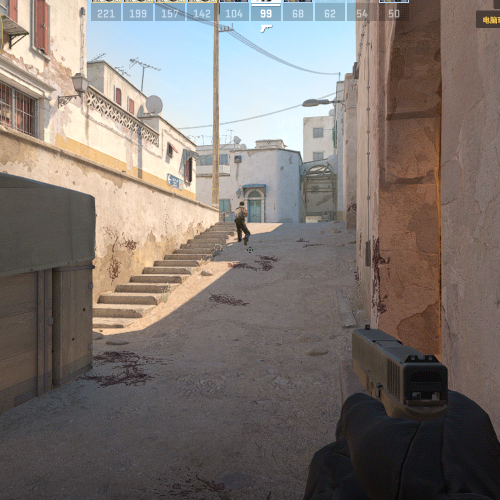t_body: (235, 201, 251, 246)
t_head: (238, 201, 245, 208)
